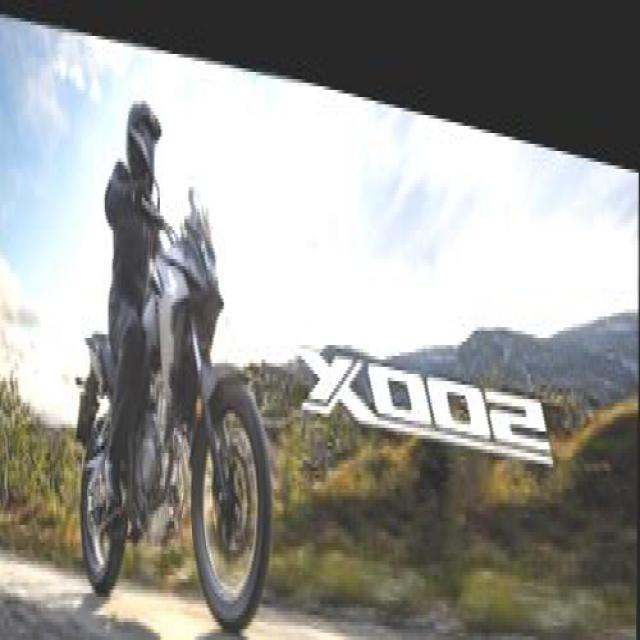CB500X: (75, 146, 273, 638)
